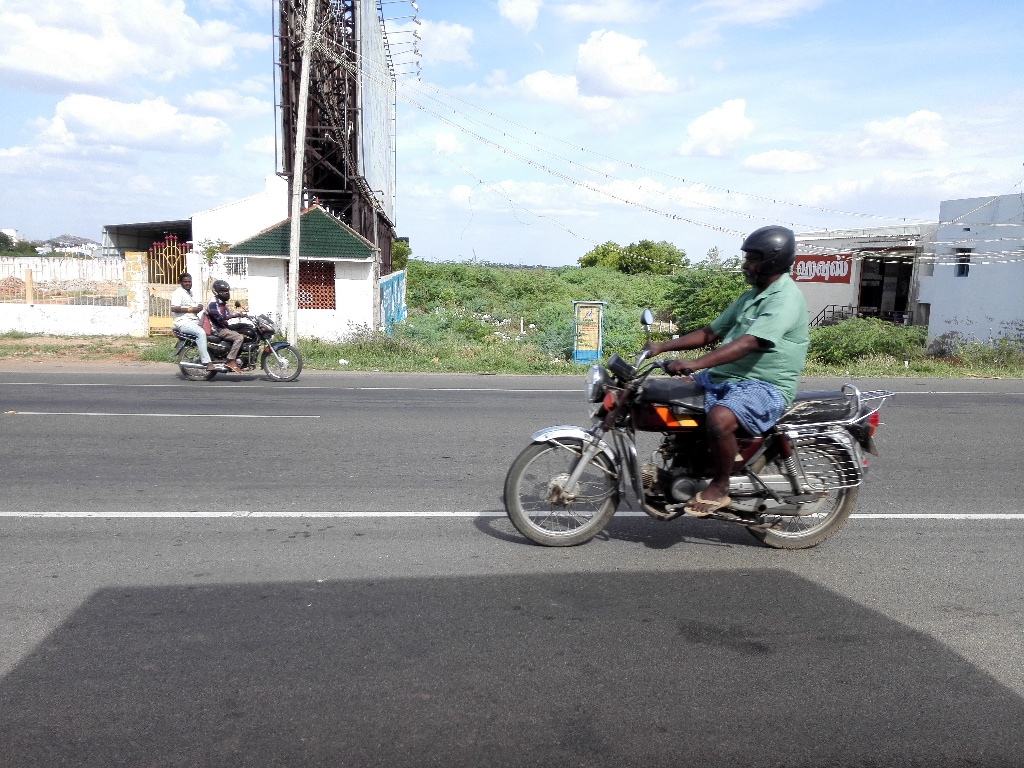biker: (477, 191, 909, 563), (160, 249, 315, 400)
helmet: (731, 220, 812, 302), (207, 274, 236, 306)
nohelmet: (173, 265, 202, 297)
